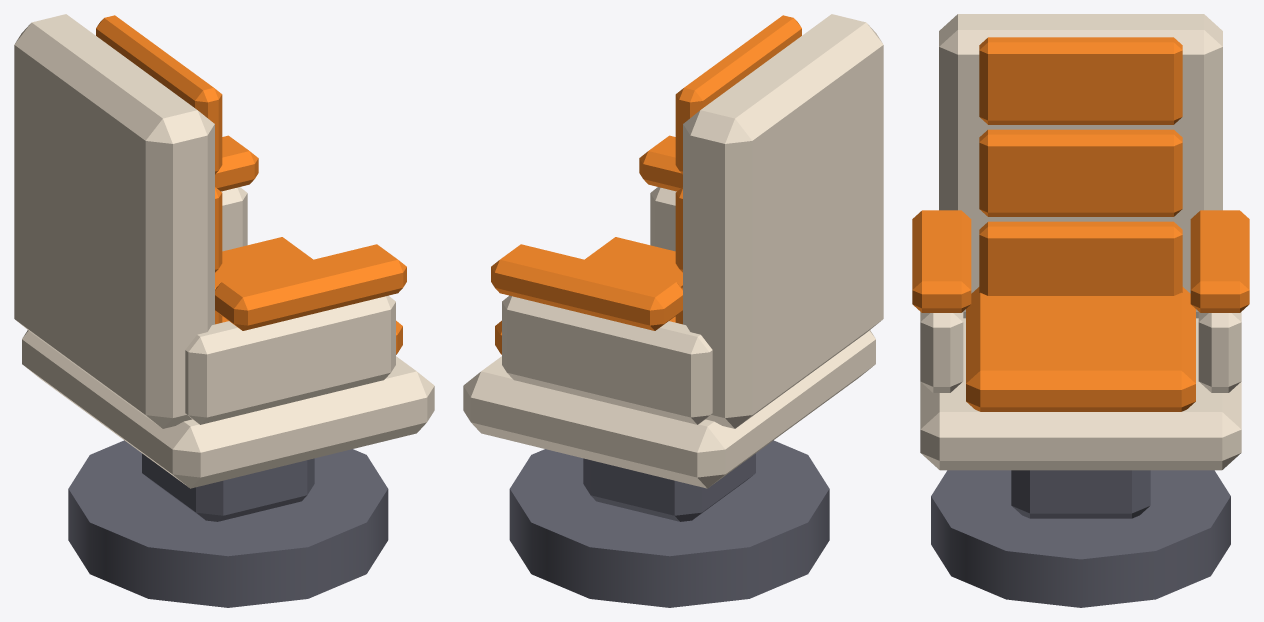
The model's file is galley-chair.glb.
The picture shows the model from 3 angles, left to right: view 1: azimuth 30°, elevation 25°; view 2: azimuth 150°, elevation 25°; view 3: azimuth 270°, elevation 25°; orthographic projection. The views are drawn at different scales.
Visible parts, largest first — view 1: galley-chair_smooth-structure, galley-chair_smooth-structure_structure-gray, galley-chair_accent-paint; view 2: galley-chair_smooth-structure, galley-chair_smooth-structure_structure-gray, galley-chair_accent-paint; view 3: galley-chair_accent-paint, galley-chair_smooth-structure, galley-chair_smooth-structure_structure-gray.
Boxes of the visible parts, left/top/right/bottom form: galley-chair_smooth-structure: left=14, top=14, right=434, bottom=488; galley-chair_smooth-structure_structure-gray: left=68, top=440, right=388, bottom=607; galley-chair_accent-paint: left=96, top=15, right=406, bottom=354; galley-chair_smooth-structure: left=463, top=14, right=883, bottom=488; galley-chair_smooth-structure_structure-gray: left=509, top=440, right=829, bottom=607; galley-chair_accent-paint: left=491, top=15, right=801, bottom=354; galley-chair_accent-paint: left=912, top=37, right=1249, bottom=411; galley-chair_smooth-structure: left=920, top=14, right=1241, bottom=470; galley-chair_smooth-structure_structure-gray: left=931, top=470, right=1230, bottom=607.
Size of the model in its own units: 0.58 by 0.975 by 0.63.
